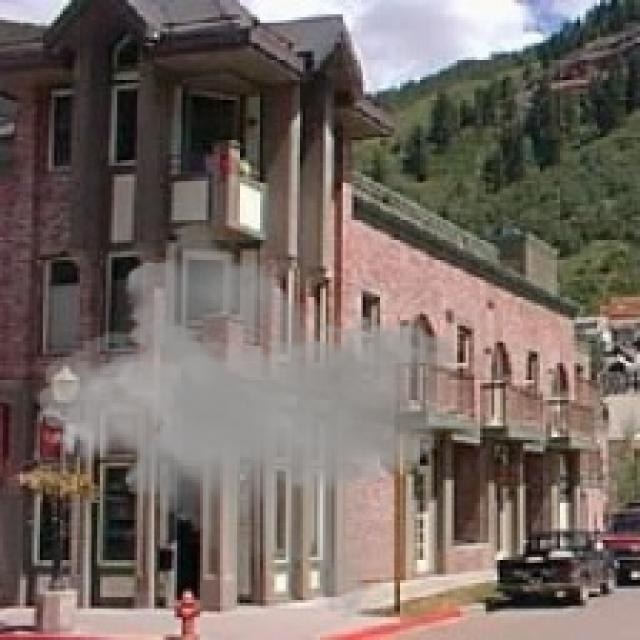smoke: (37, 208, 460, 623)
